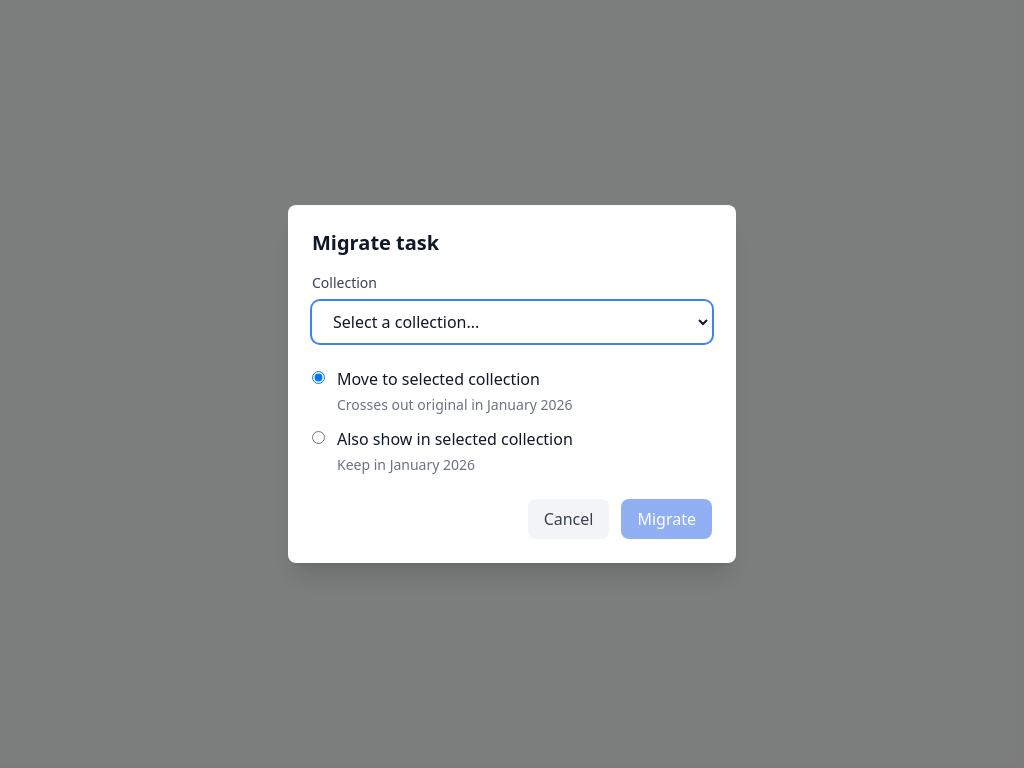
Test case: MigrateEntryDialog - Core Behavior › Modal Behavior › should disable buttons while submitting
The image size is (1024, 768).
Select a collection first
Select "Saturday, January 24, 2026" in the dropdown labelled "Collection" at (512, 322), box [312,301,712,343]
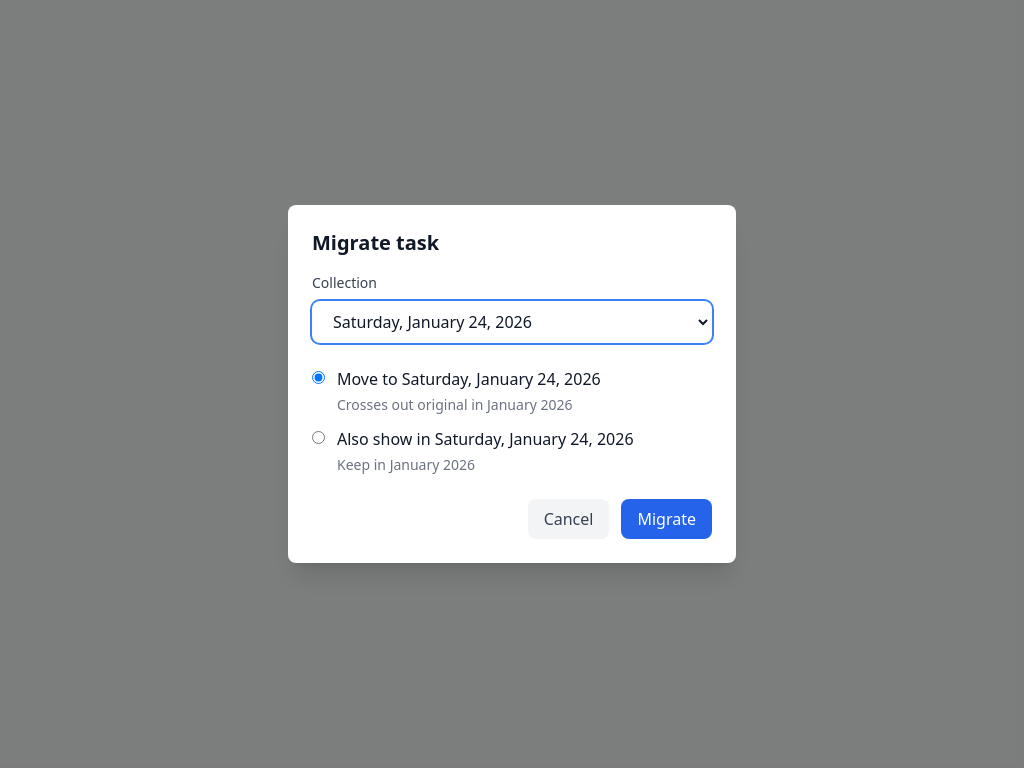
Click the button "Migrate" at (667, 519), box [622,499,712,539]
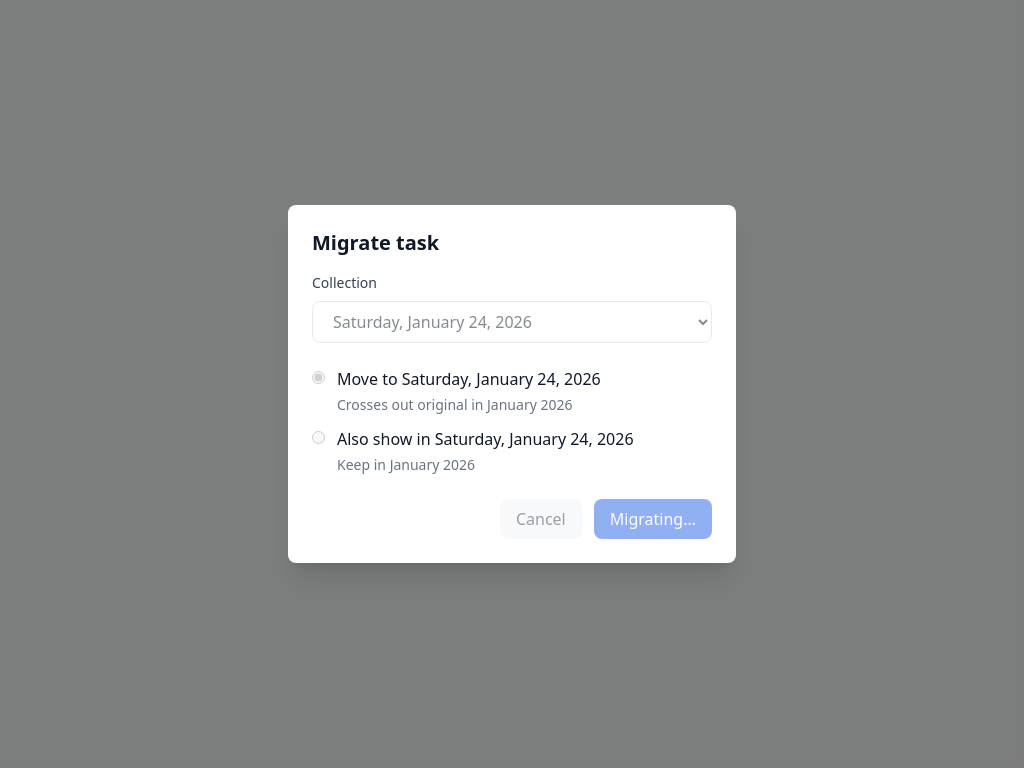
Result: the button named "Migrate" is disabled at [594,499,712,539]
Result: the button "Cancel" is disabled at [500,499,582,539]
